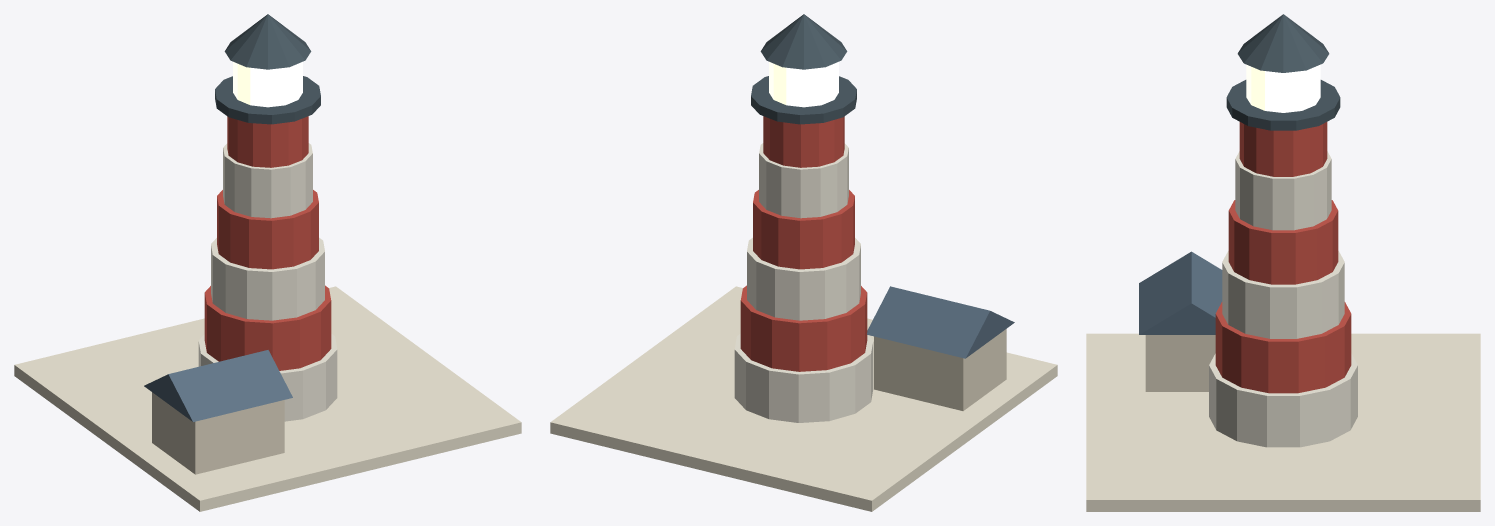
Rendered from lighthouse.glb.
3 renders of one model, left to right at view 1: azimuth 30°, elevation 25°; view 2: azimuth 150°, elevation 25°; view 3: azimuth 270°, elevation 25°, orthographic. The views are drawn at different scales.
Visible parts, largest first — view 1: lighthouse; view 2: lighthouse; view 3: lighthouse.
Boxes of the visible parts, <box> form: lighthouse: <box>14,14,521,511</box>; lighthouse: <box>550,14,1057,511</box>; lighthouse: <box>1086,14,1480,511</box>.
Size of the model in its own units: 1.8 by 2.09 by 1.8.
